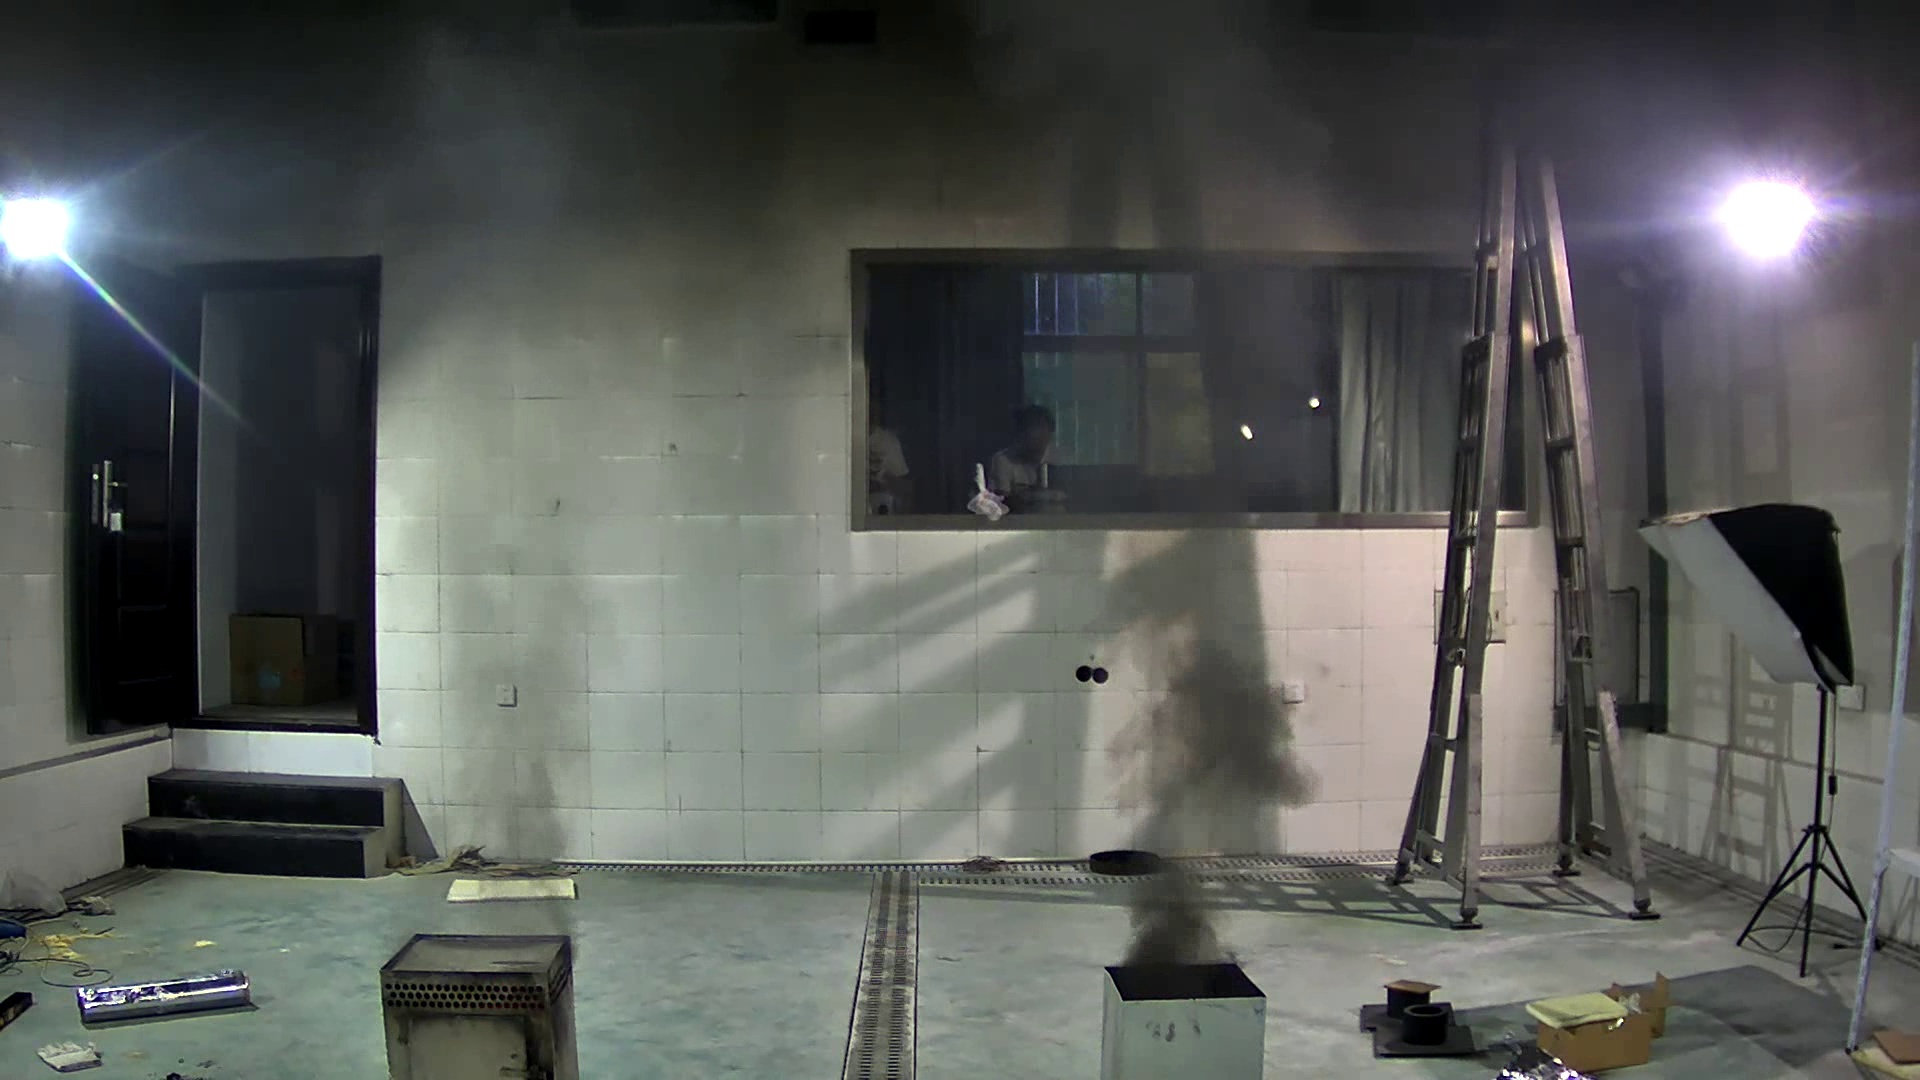smoke: (369, 468, 603, 945), (1096, 578, 1331, 972)
